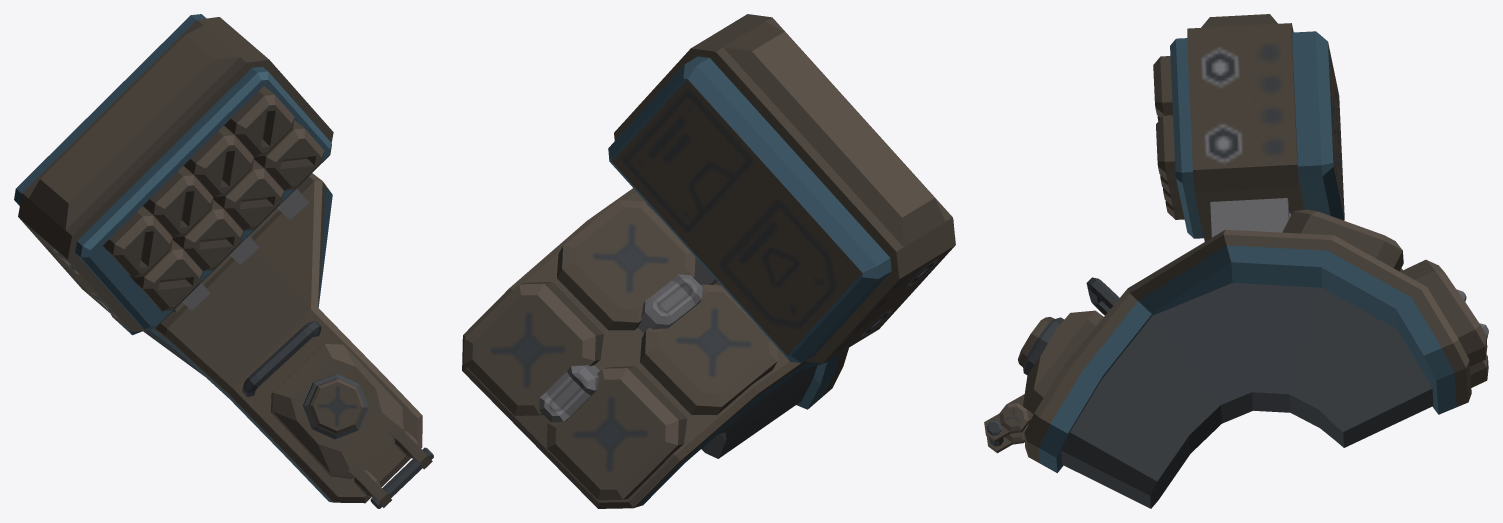
The model's file is SM_Mech_Chest_01_Armor_Collar_03.fbx.
3 views of the same model, side by side, from view 1: azimuth 30°, elevation 25°; view 2: azimuth 150°, elevation 25°; view 3: azimuth 270°, elevation 25° (orthographic). The views are drawn at different scales.
Parts seen in each view (by area): view 1: SM_Mech_Chest_01_Armor_Collar_03; view 2: SM_Mech_Chest_01_Armor_Collar_03; view 3: SM_Mech_Chest_01_Armor_Collar_03.
Part boxes in pixels (box(x1,y1,x2,y2)): SM_Mech_Chest_01_Armor_Collar_03: box(14, 14, 433, 508); SM_Mech_Chest_01_Armor_Collar_03: box(462, 14, 955, 508); SM_Mech_Chest_01_Armor_Collar_03: box(984, 14, 1488, 508).
Bounding box in the file's own units: 96.61 × 121 × 124.
